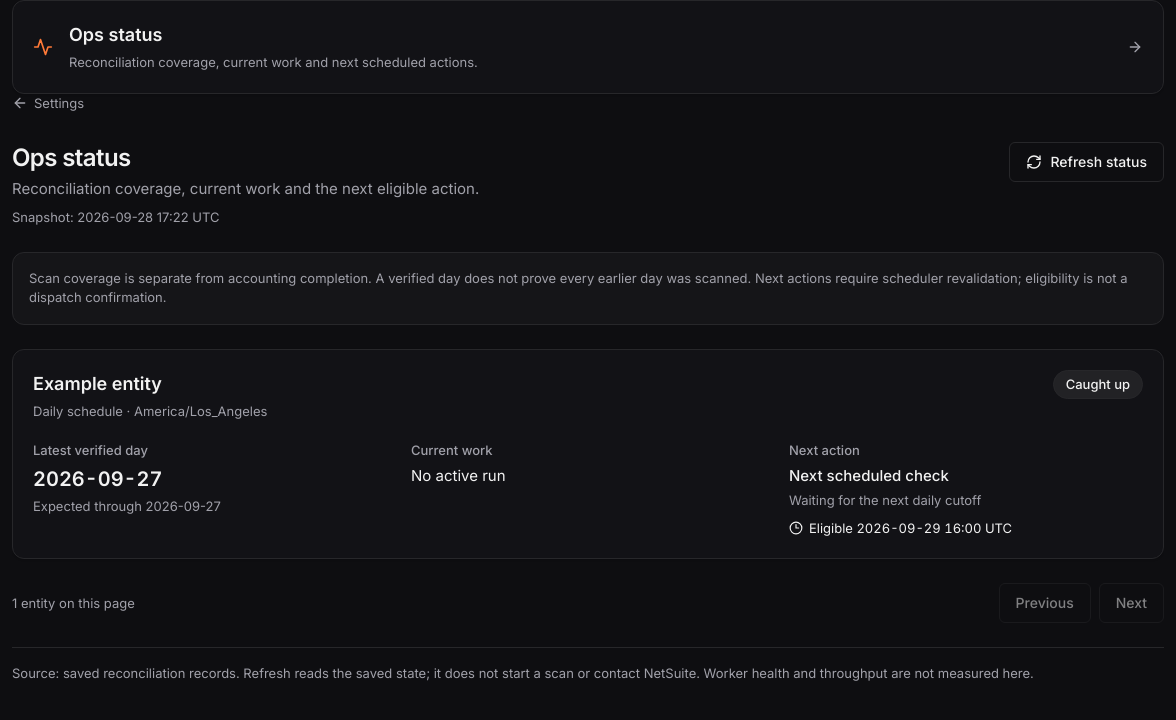
it: marks a retained snapshot as older after a failed refresh
Expected: the heading "Example entity" is shown, top-left (33, 373), bottom-right (162, 394)
Click the button "Refresh status": [1087, 162] box top-left (1010, 142), bottom-right (1164, 182)
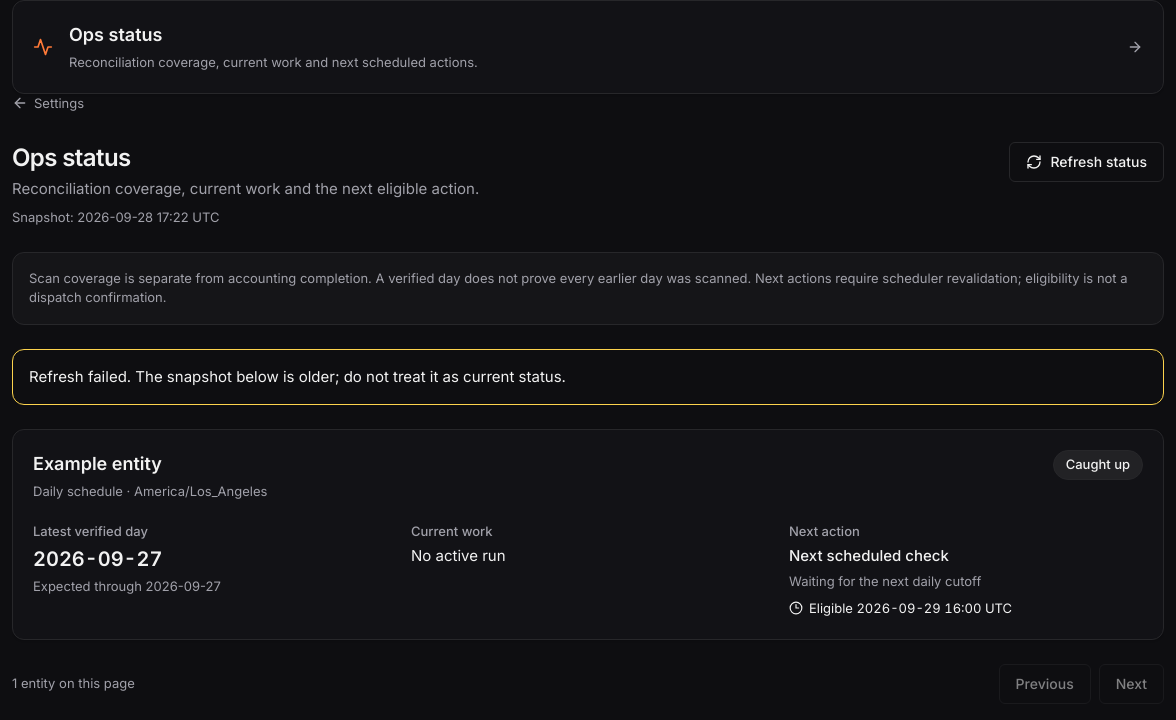
Expected: the heading "Example entity" is shown, top-left (33, 453), bottom-right (162, 474)
Expected: the message shows "snapshot below is older", top-left (29, 367), bottom-right (566, 386)
